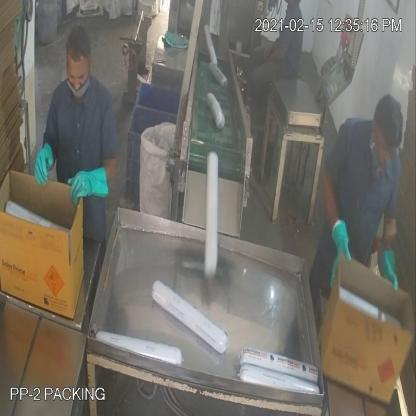glove: (65, 158, 114, 216), (25, 128, 62, 196), (333, 209, 359, 280)
no_glove: (257, 32, 294, 73)
